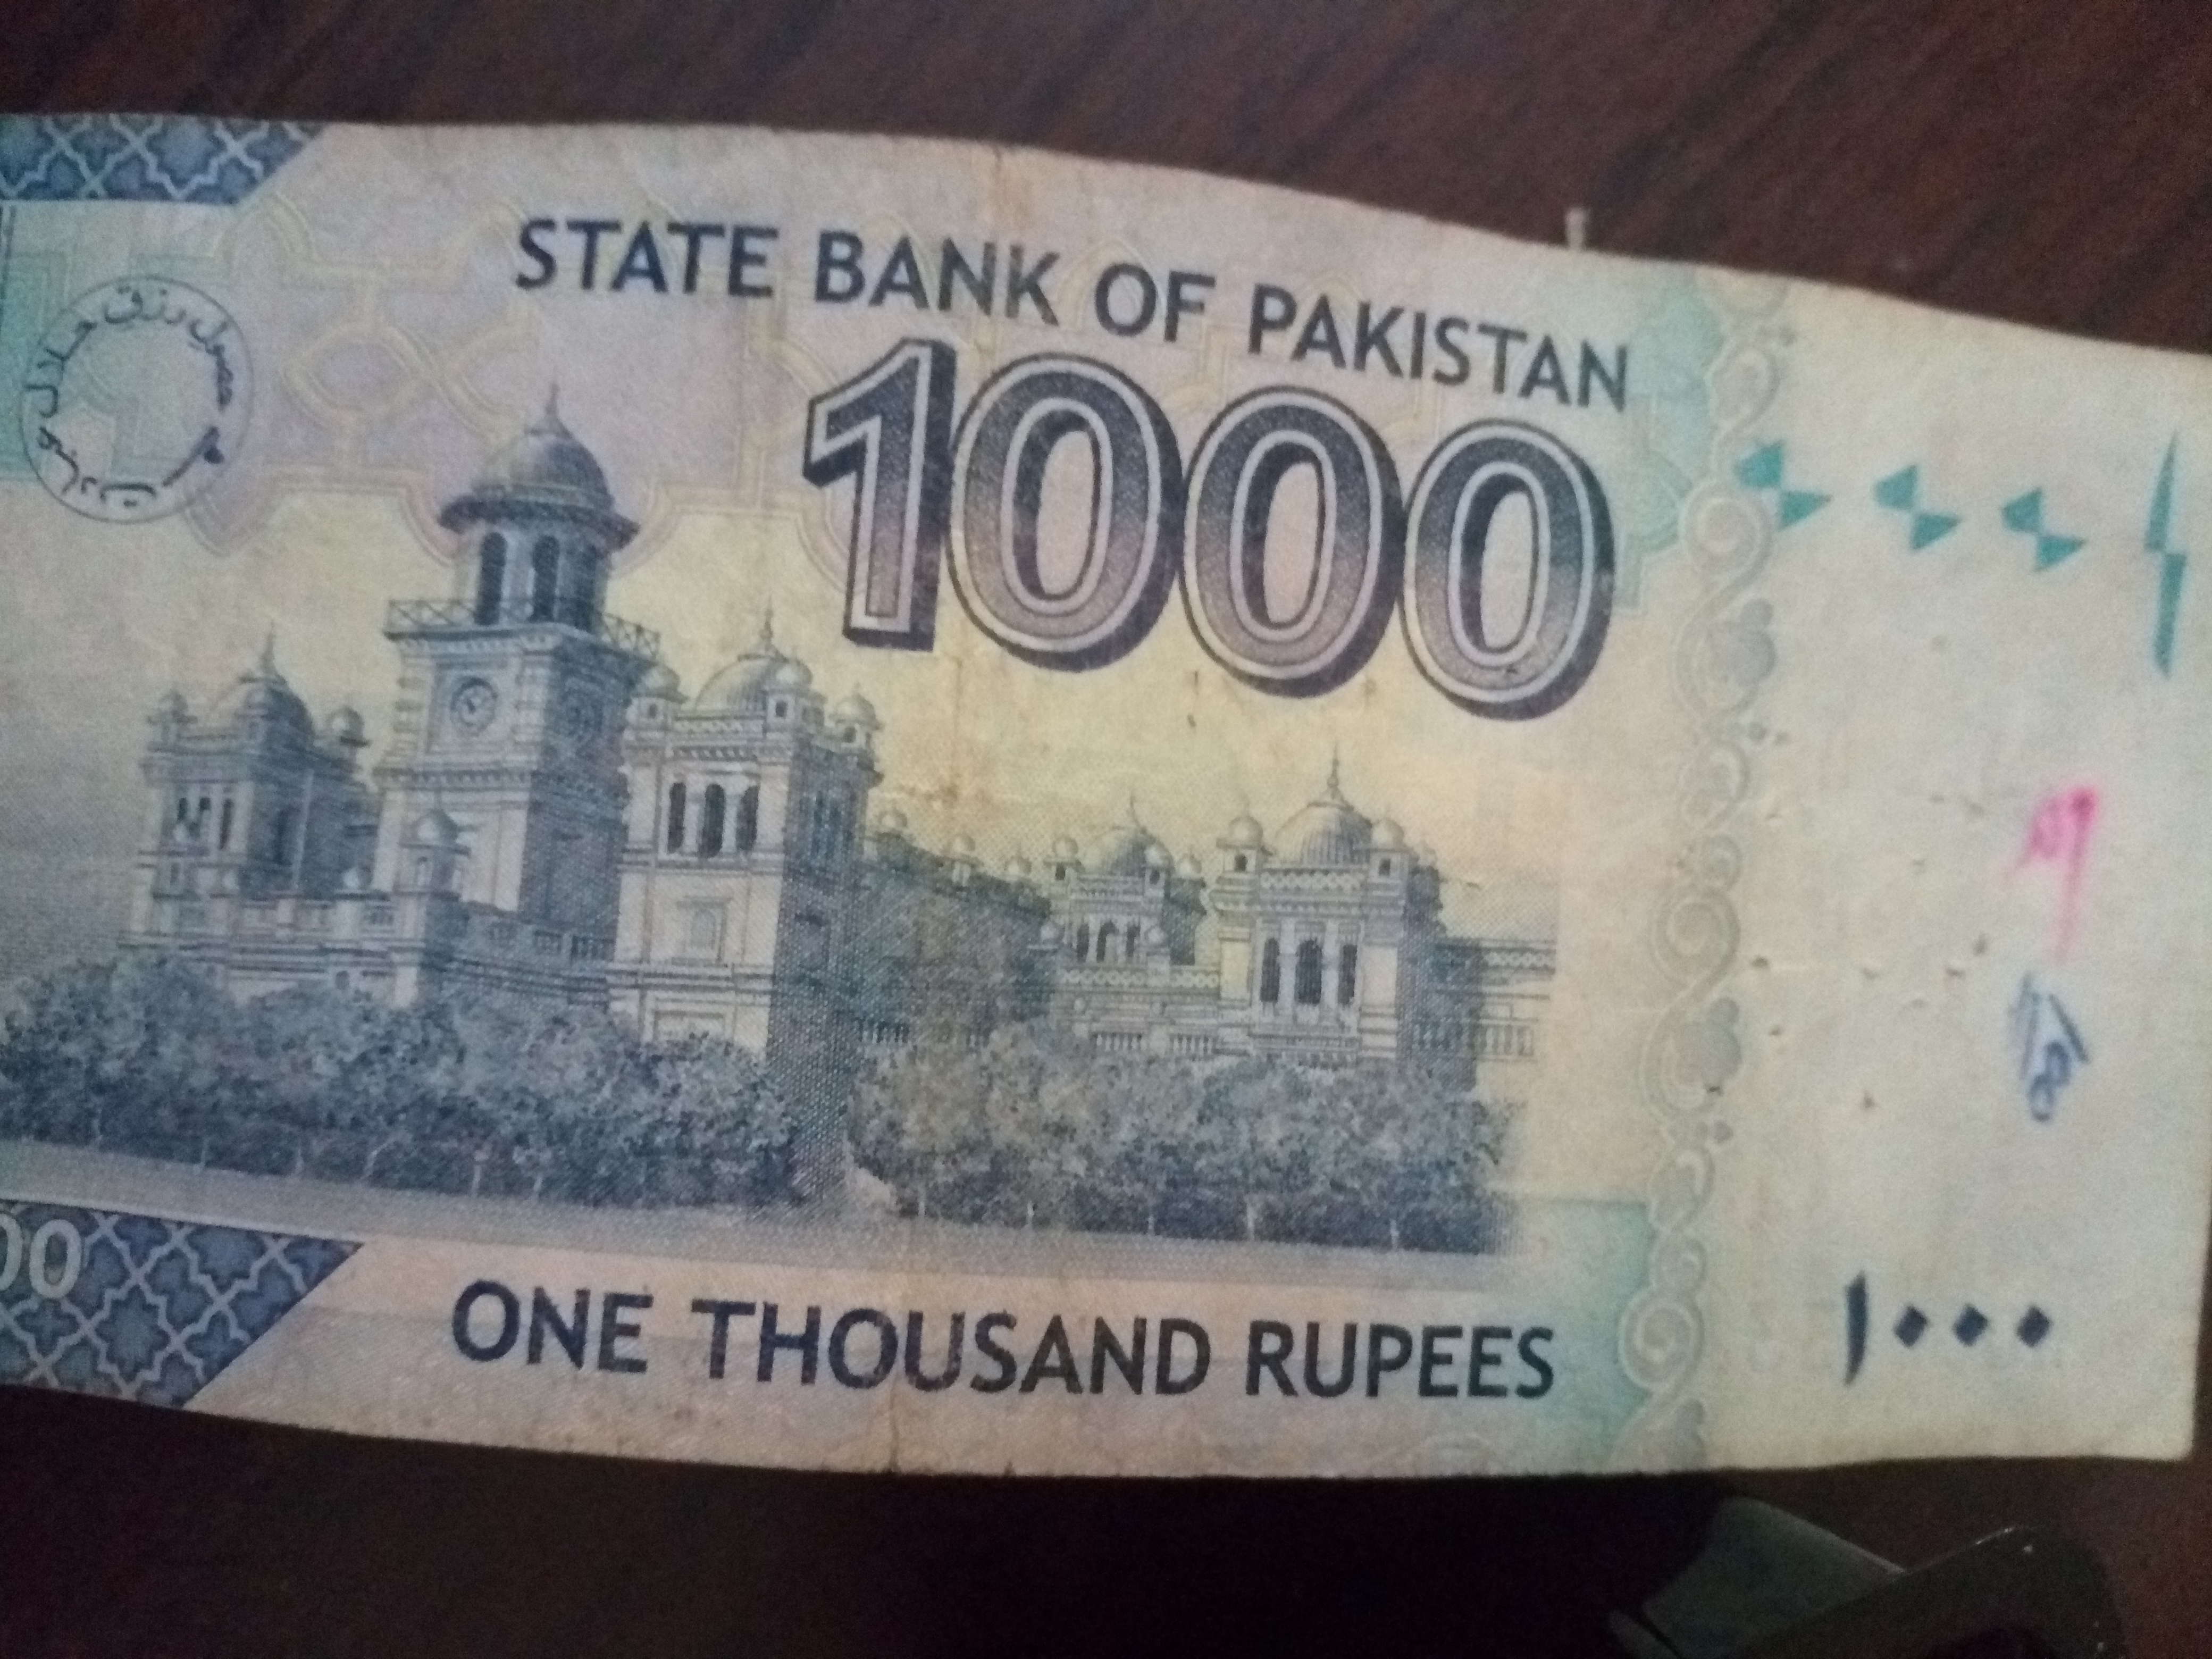1000 rupee: (9, 71, 2196, 1521)
